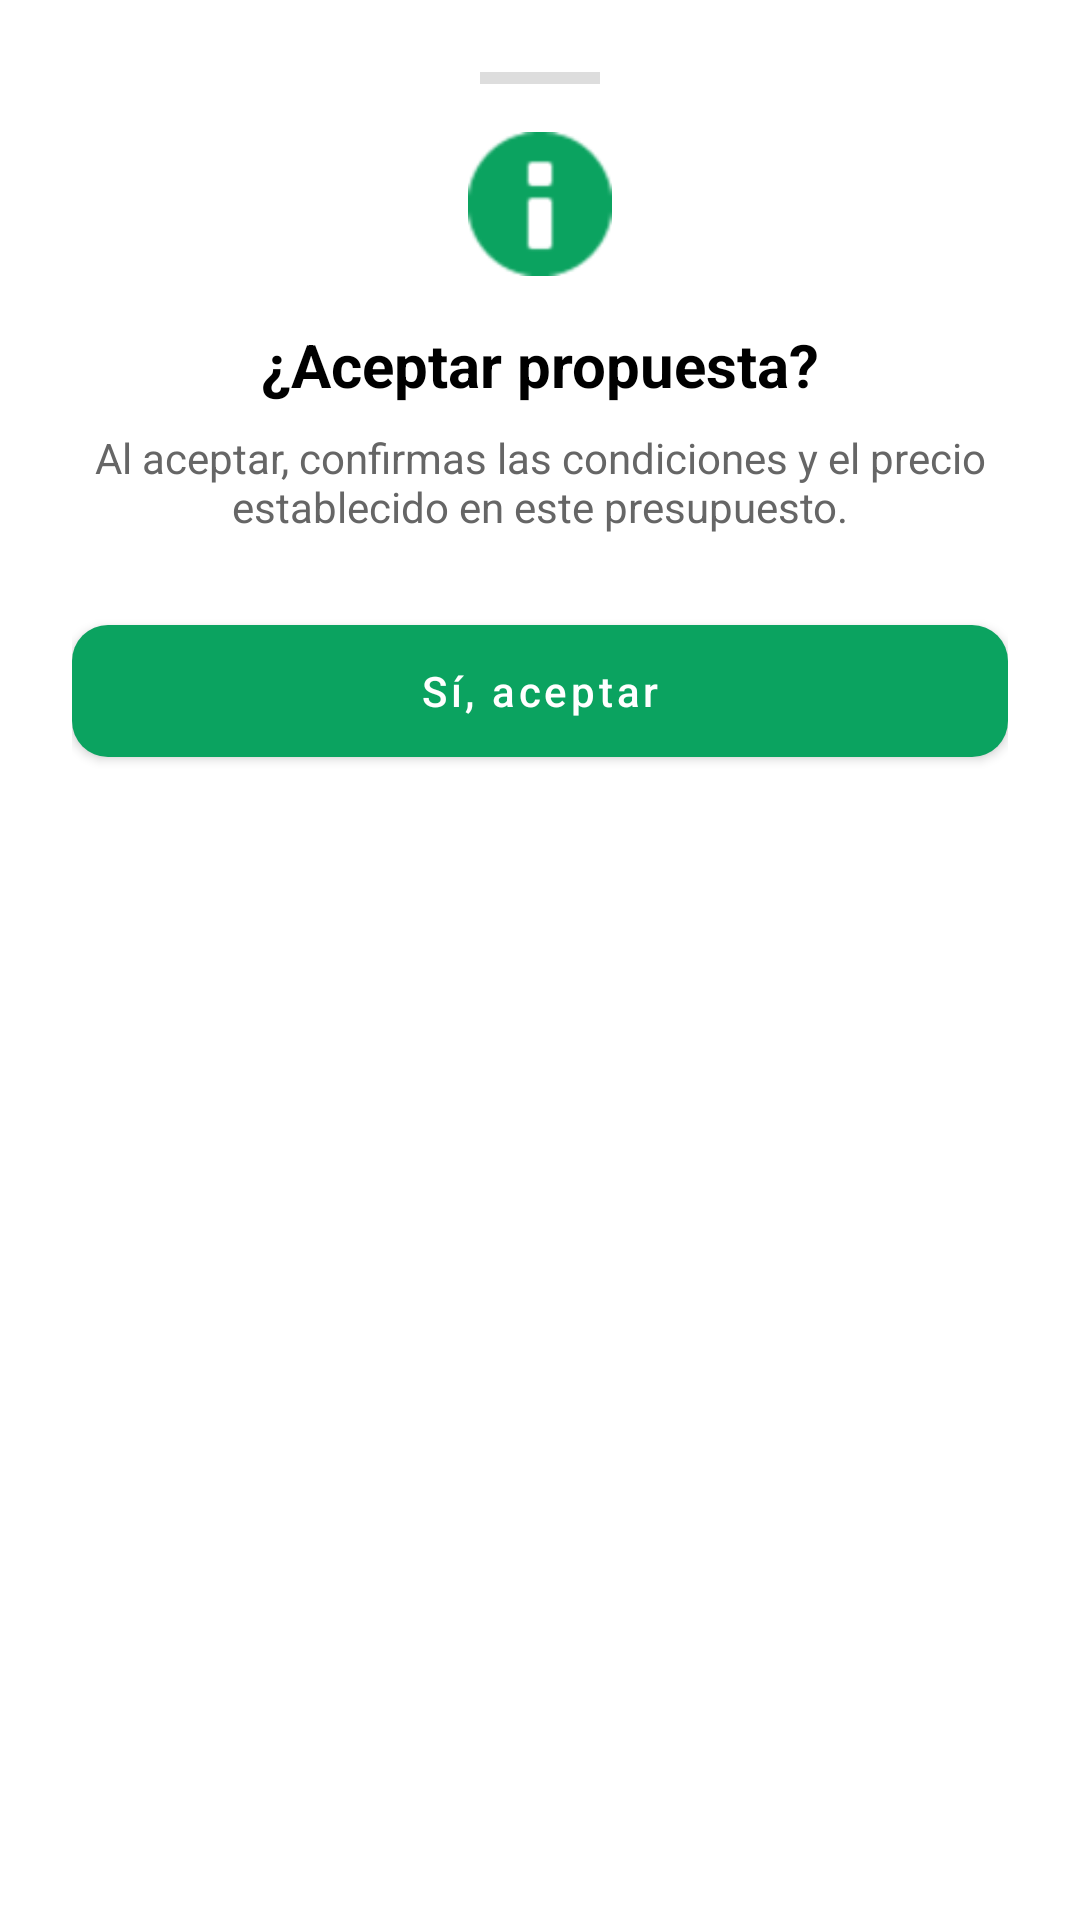

Icons on this 1080 x 1920 Android screen, each with the point to tap as (x=x, y=y):
info: (x=540, y=204)
